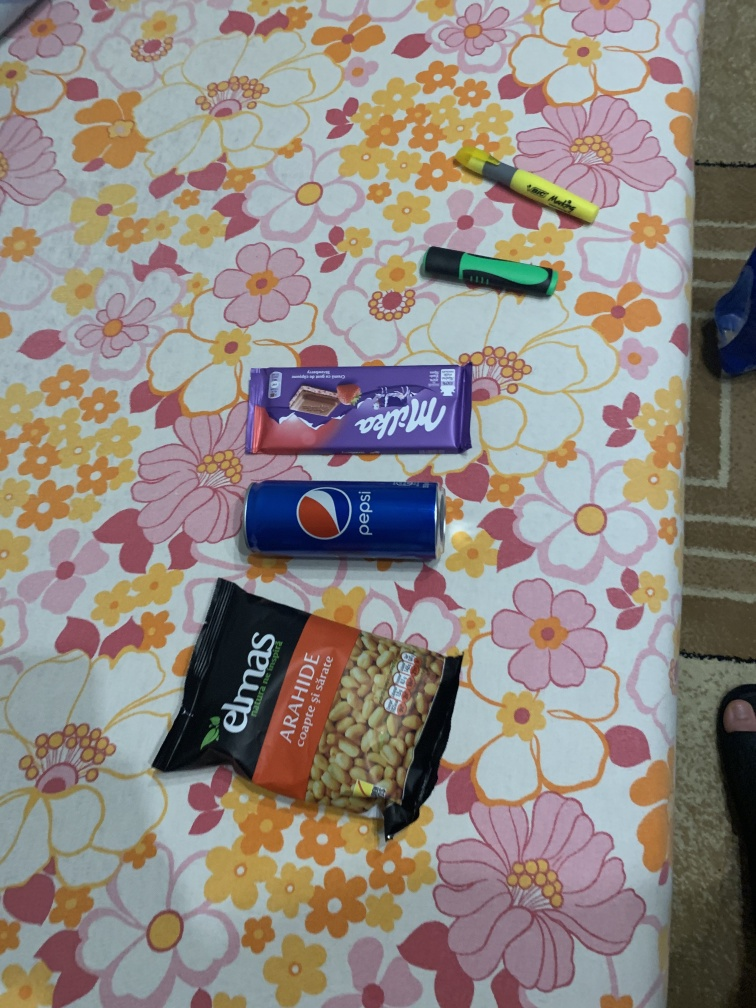milka: (240, 359, 471, 459)
peanuts: (144, 575, 471, 849)
pepsi: (240, 473, 452, 565)
